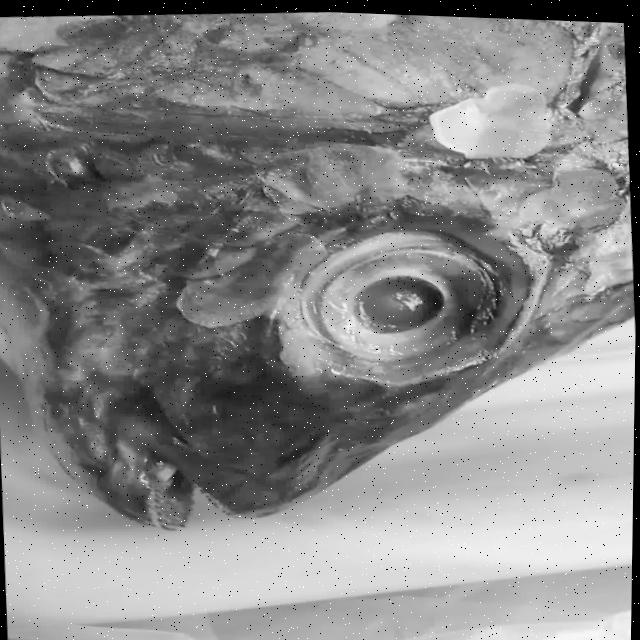Non-Fresh: (0, 0, 455, 494), (247, 164, 558, 417)
